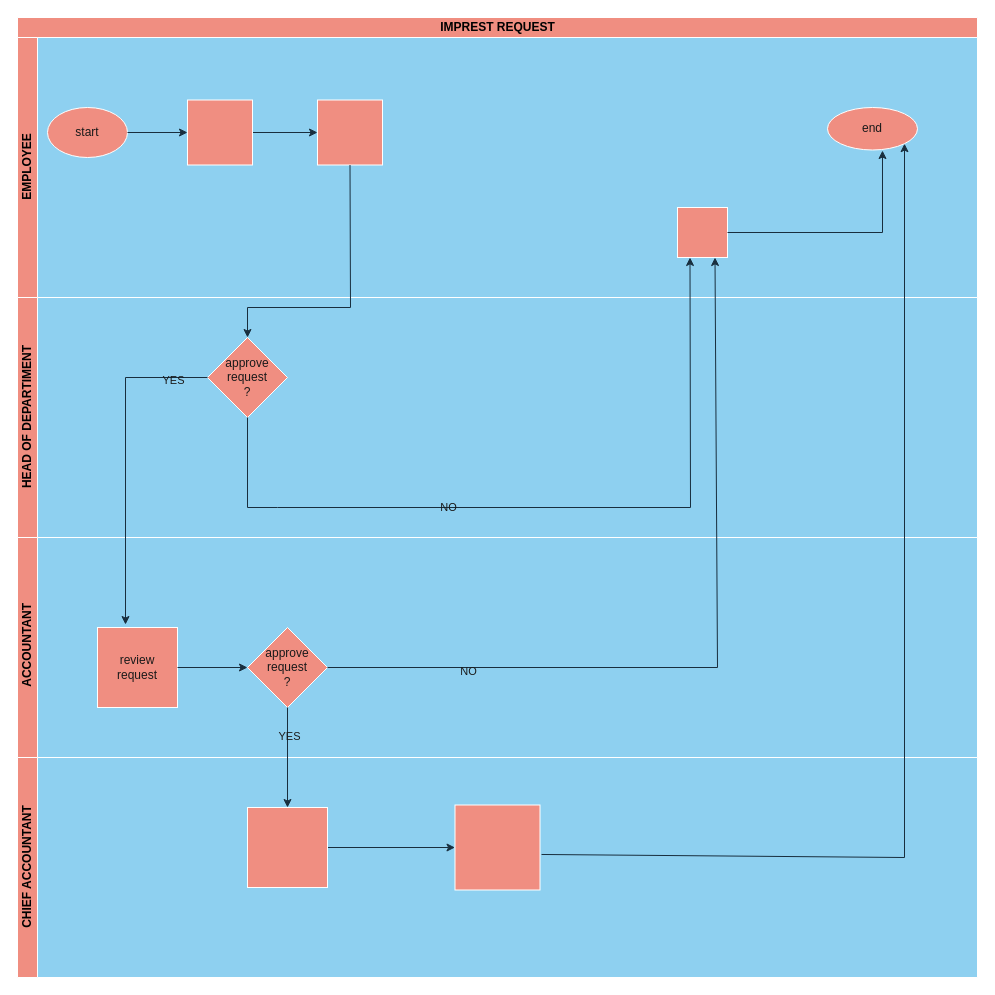
Some shapes in this 995 by 995 pixel diagram are drawn without their labels. Here are the shapes that lost their labels. From the top down, the centre of each, then its label:
At (x=219, y=132): "request fund".
At (x=349, y=132): "submit request".
At (x=702, y=232): "notify, request rejected".
At (x=287, y=847): "process payment".
At (x=497, y=847): "make payment".
